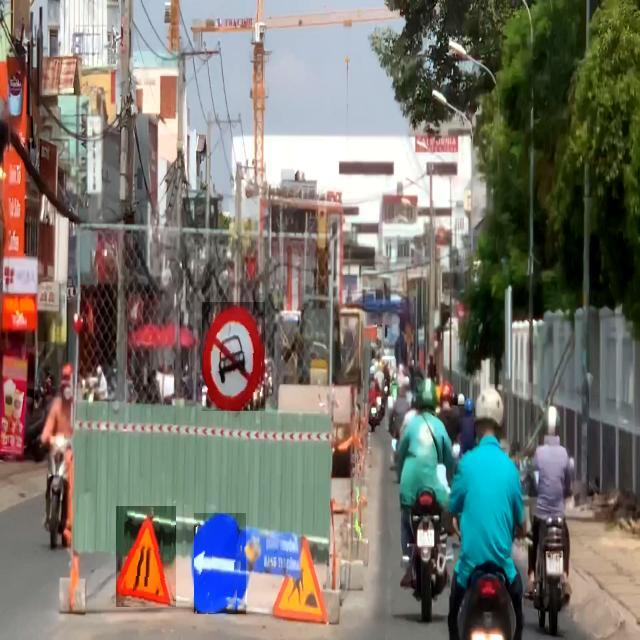P-103a: (202, 302, 265, 411)
R-301c: (194, 513, 246, 614)
W-203b: (116, 506, 176, 607)
